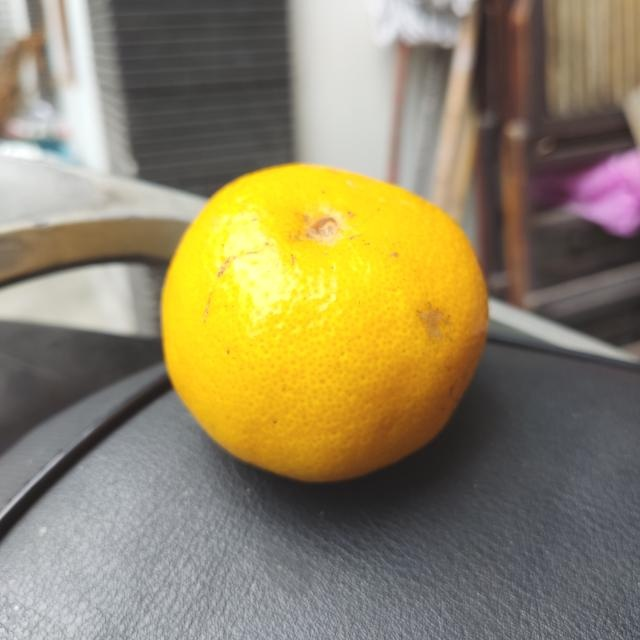agrume: (156, 158, 492, 488)
